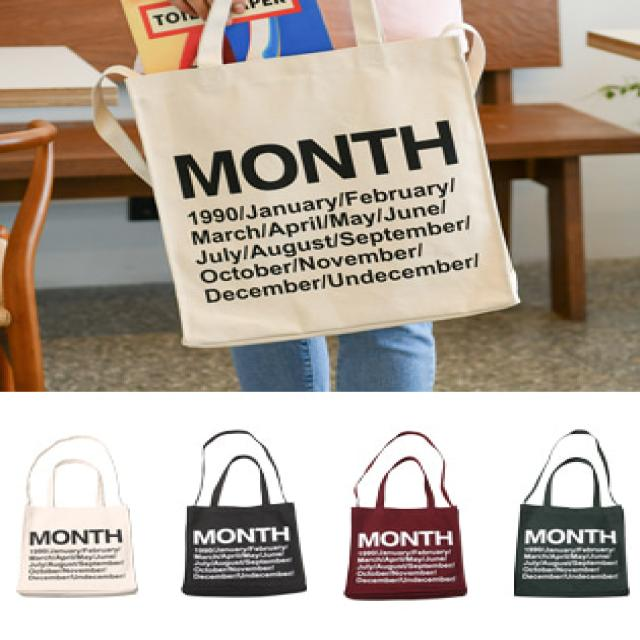ecobag: (93, 9, 540, 363)
